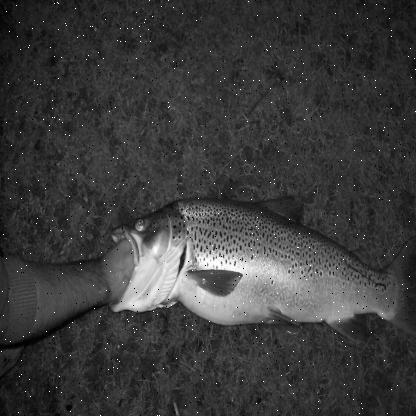fish: (107, 187, 415, 343)
